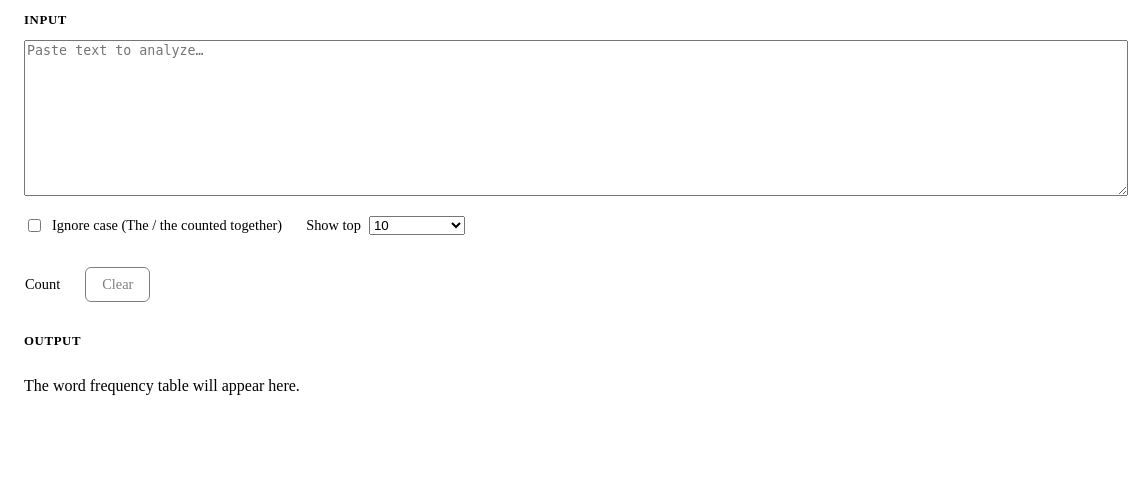
Test: WordFrequencyTool › clears input and output
Type "hello world" into the text box named "Word frequency input" at (576, 118), box [24,40,1128,196]
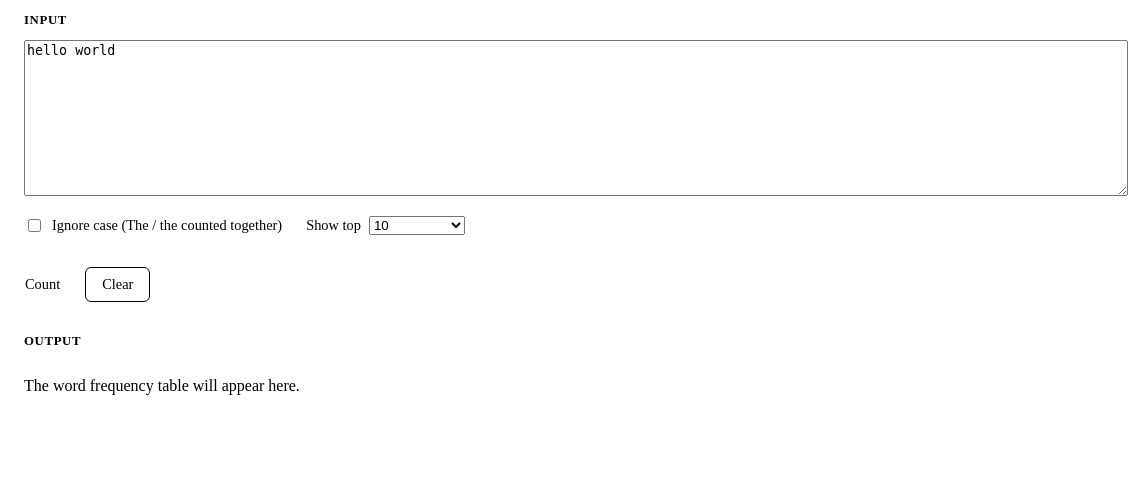
Click the button "Count" at (43, 284), box [8,267,77,302]
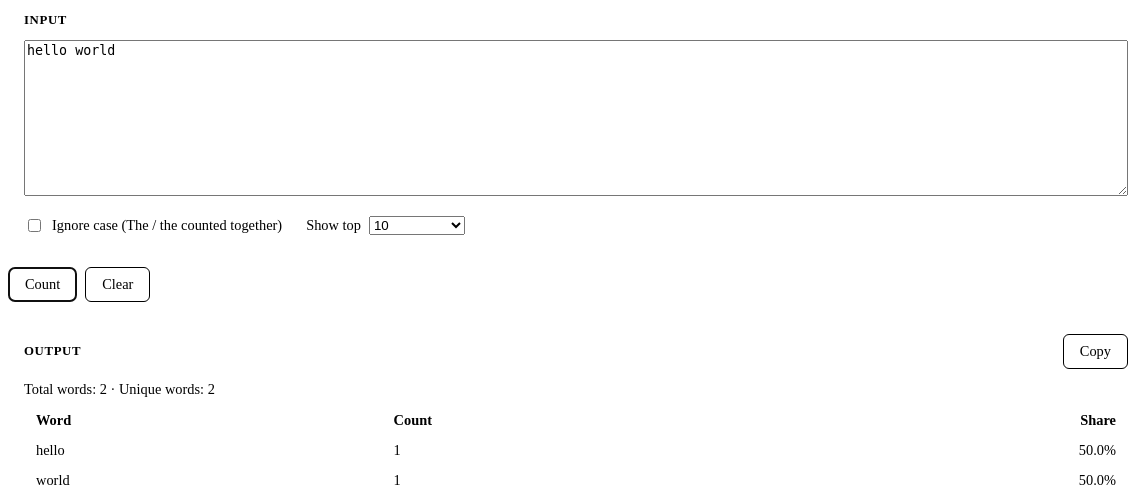
Click the button "Clear" at (118, 284), box [85,267,150,302]
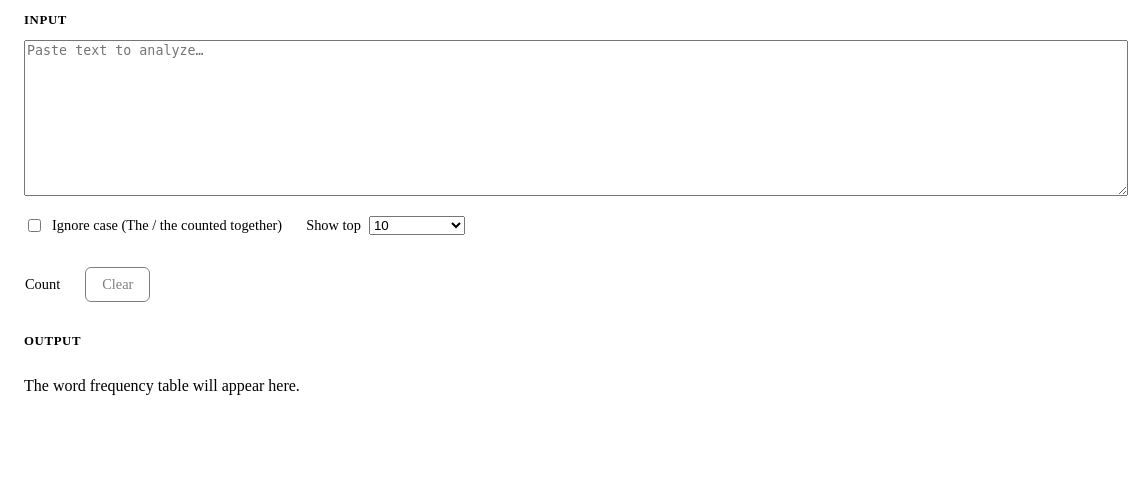
Check: the text box named "Word frequency input" is empty, box [24,40,1128,196]
Check: the text "The word frequency table will appear here." is shown, box [24,377,300,394]
